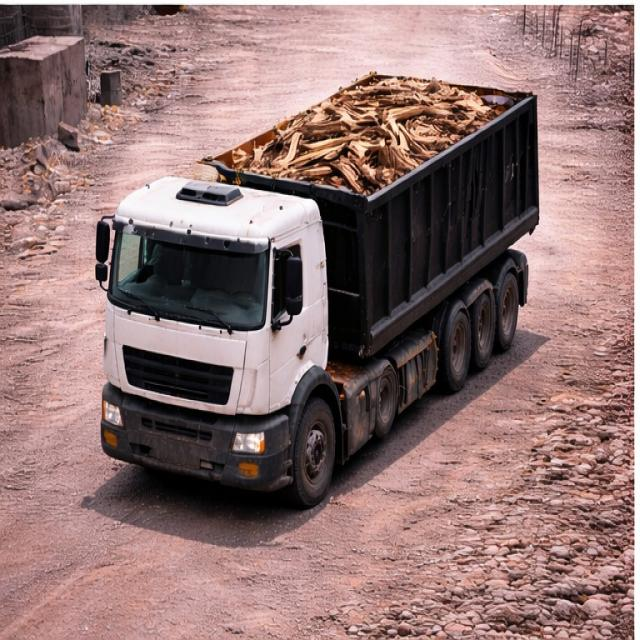Box: (200, 72, 534, 184)
Truck: (92, 54, 556, 500)
